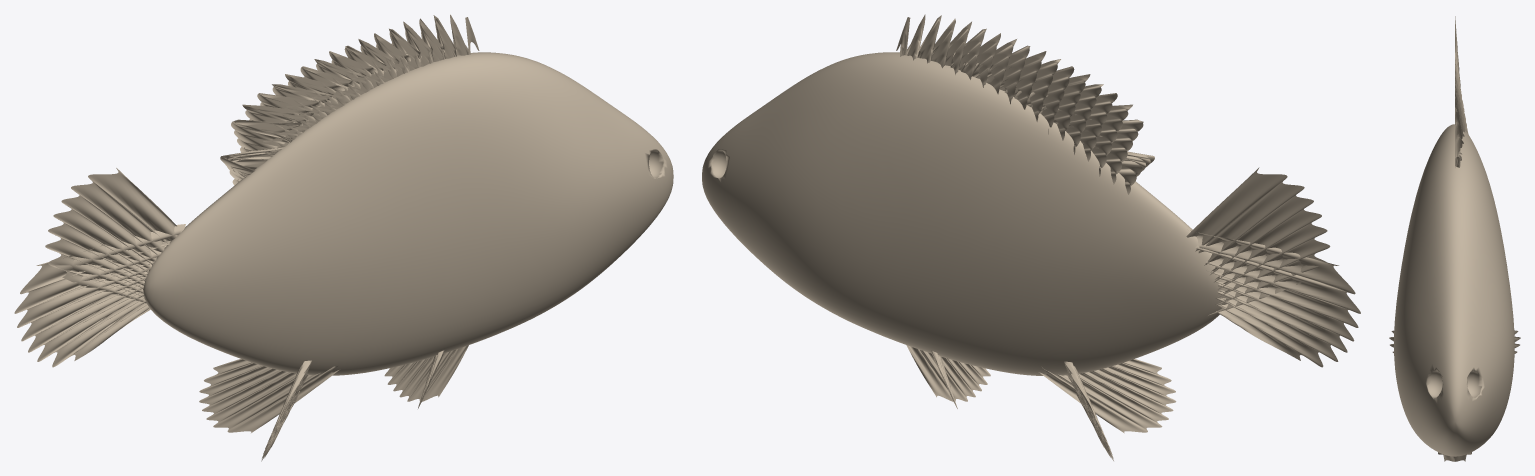
The model's file is 3dcodebench_Fish_seed0.glb.
The picture shows the model from 3 angles, left to right: view 1: azimuth 30°, elevation 25°; view 2: azimuth 150°, elevation 25°; view 3: azimuth 270°, elevation 25°; orthographic projection. The views are drawn at different scales.
Parts seen in each view (by area): view 1: object; view 2: object; view 3: object.
Part boxes in pixels (<box>): object: <box>14,14,673,461</box>; object: <box>702,14,1360,460</box>; object: <box>1389,16,1520,461</box>.
Bounding box in the file's own units: 1.55 × 0.8711 × 0.2828.
